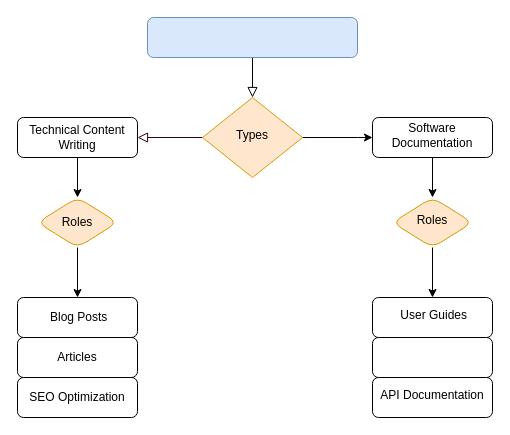
Some shapes in this 510 by 435 pixel diagram are drawn without their labels. The box of each missing label's shape, as (x1, y1, x2, y2) in pixels:
How-To Guides: (372, 336, 492, 378)
Technical Writing: (146, 16, 358, 58)
